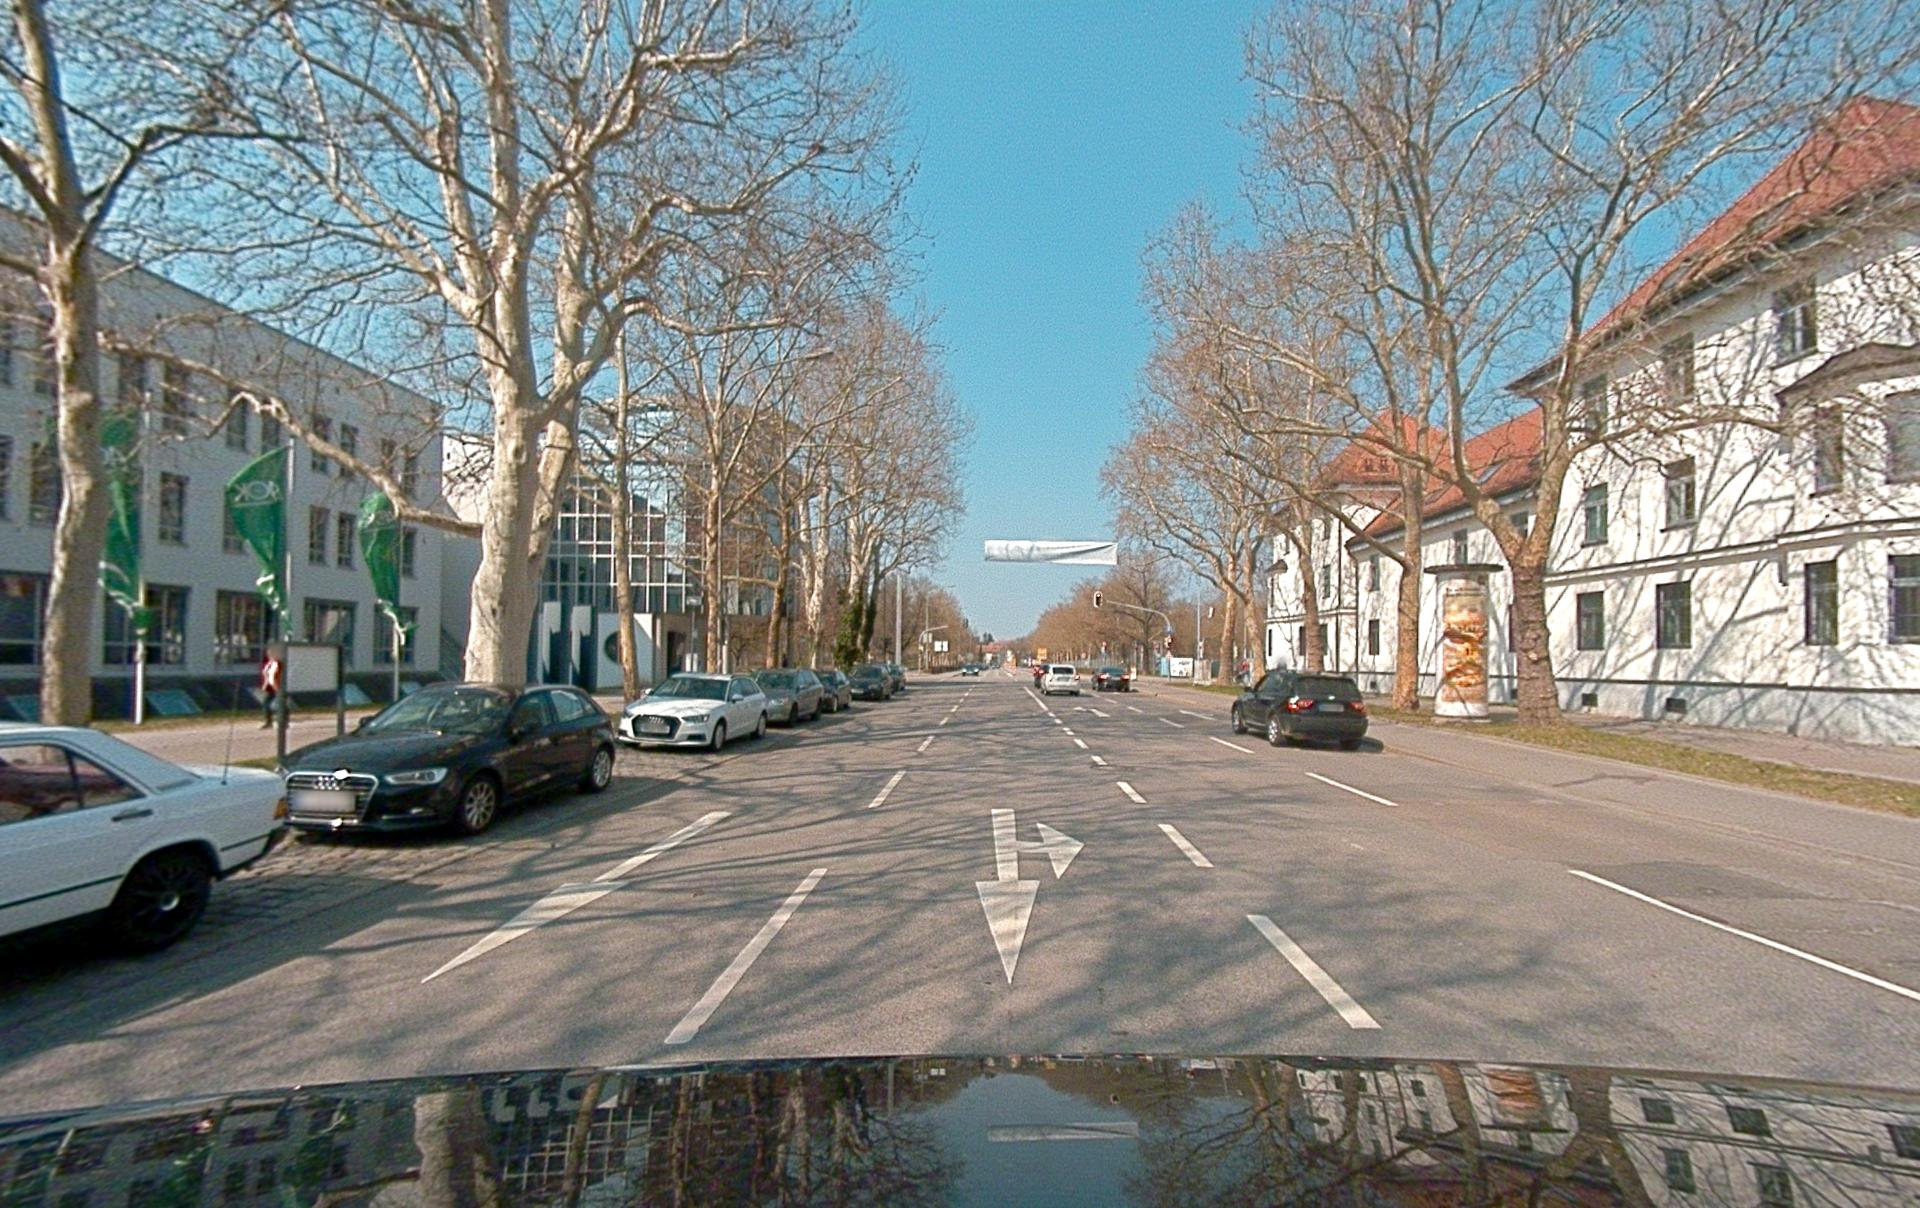car: (0, 722, 289, 955), (275, 681, 618, 839), (618, 672, 768, 752), (1231, 668, 1369, 749), (751, 668, 825, 726), (849, 664, 895, 701), (814, 668, 851, 711), (1042, 664, 1080, 696), (1094, 665, 1131, 692), (883, 664, 904, 692), (1032, 662, 1046, 689), (961, 664, 981, 676)
